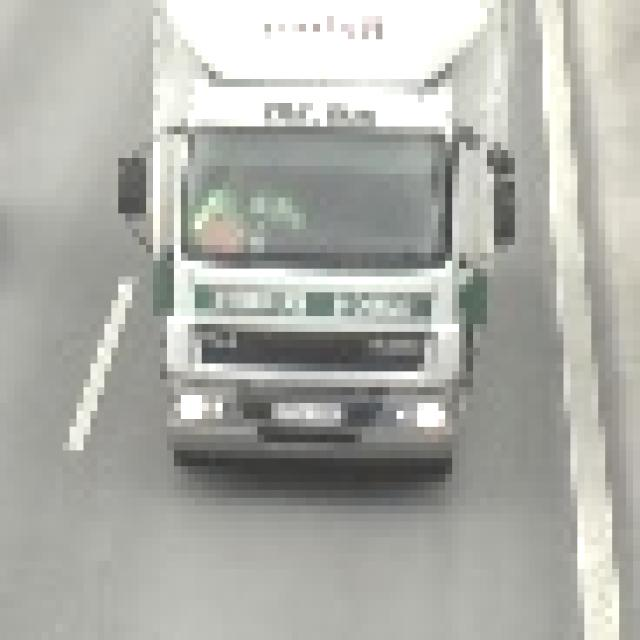truck: (104, 0, 508, 474)
